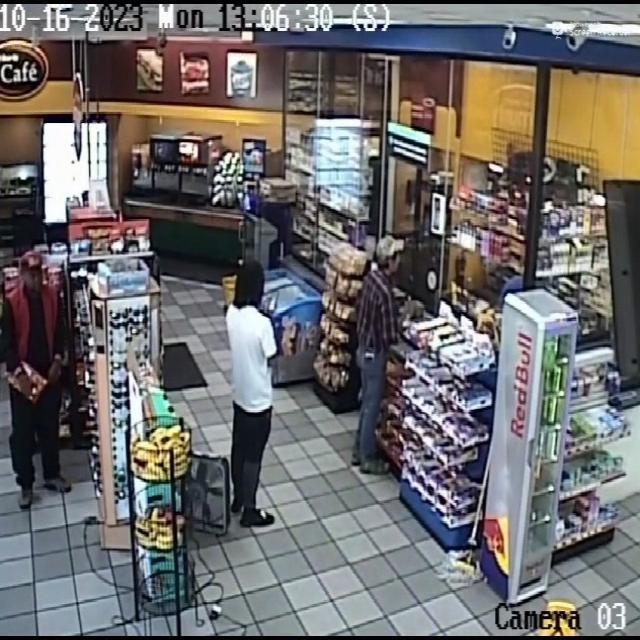normal: (211, 244, 292, 539), (3, 247, 80, 515), (345, 223, 412, 482)
